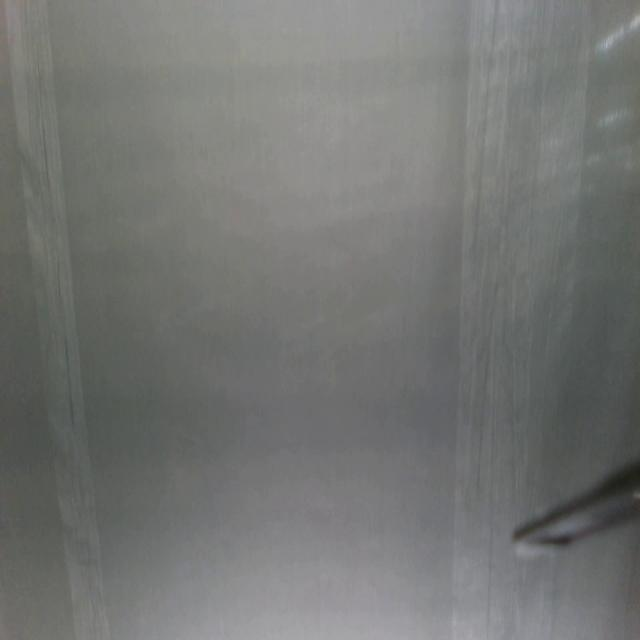crease: (3, 1, 114, 640), (454, 1, 574, 492)
